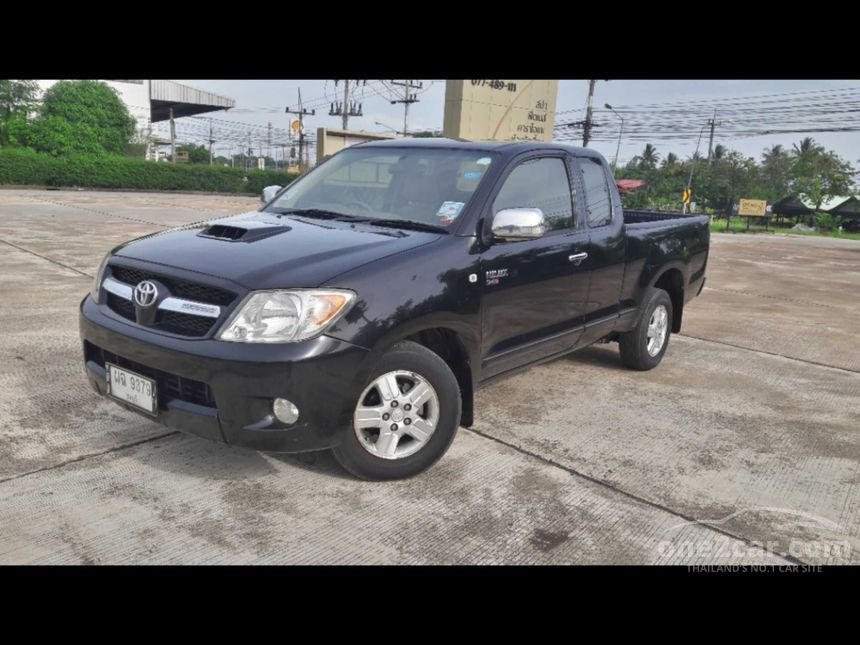pickup: (73, 131, 715, 487)
